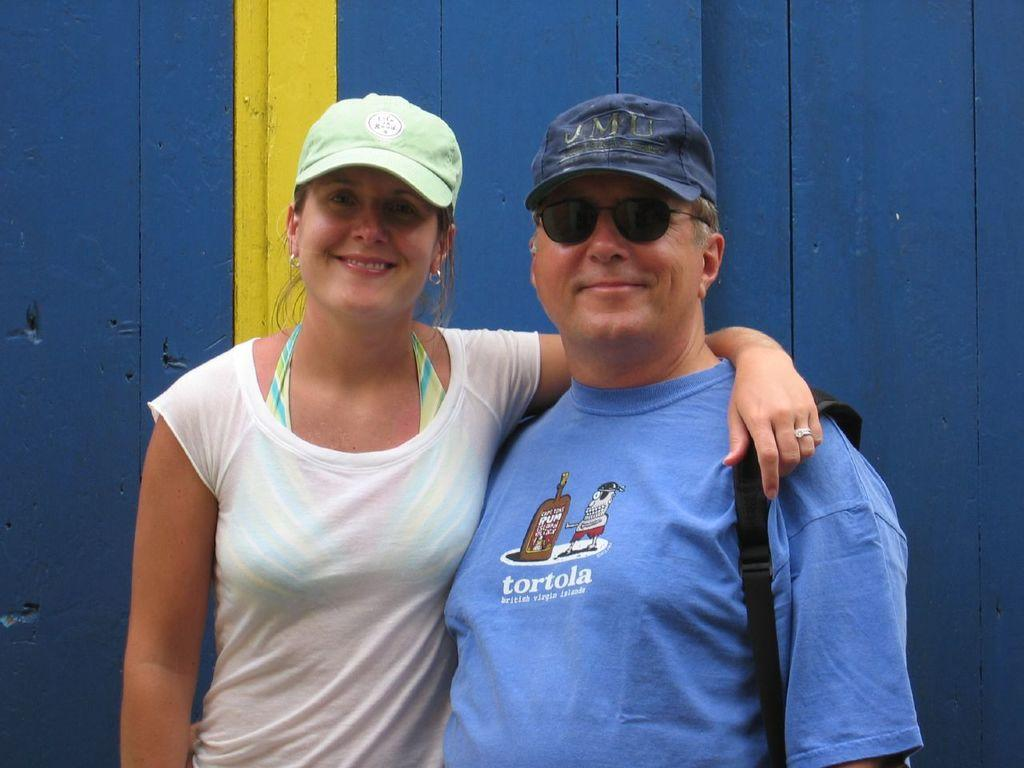Hat: (520, 94, 714, 206), (294, 90, 456, 206)
